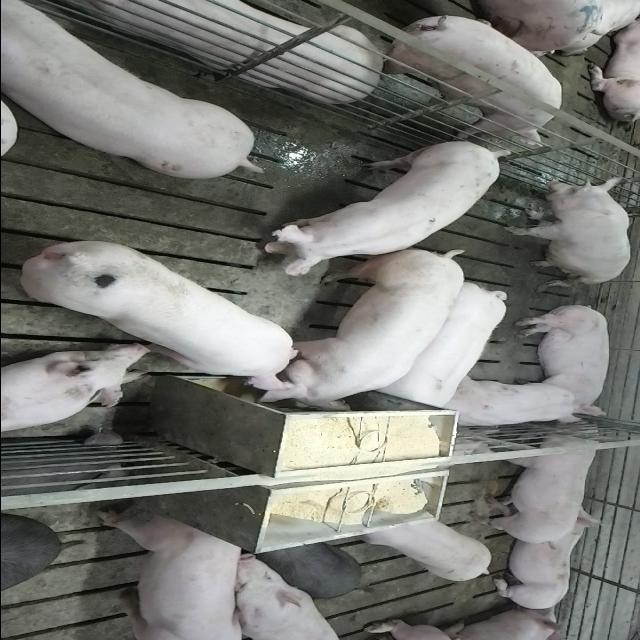Feeding: (16, 238, 302, 394), (250, 252, 466, 418)
Lateral_lying: (511, 302, 611, 419)
Sitting: (502, 177, 634, 285)
Standing: (1, 0, 259, 176), (254, 136, 510, 272), (374, 9, 562, 141), (98, 508, 249, 638), (468, 424, 612, 548), (376, 280, 512, 410), (229, 554, 352, 640), (356, 514, 496, 584), (258, 540, 364, 600)
Sternal_lying: (39, 0, 382, 101), (0, 346, 151, 435), (485, 513, 607, 611), (438, 379, 592, 432)
